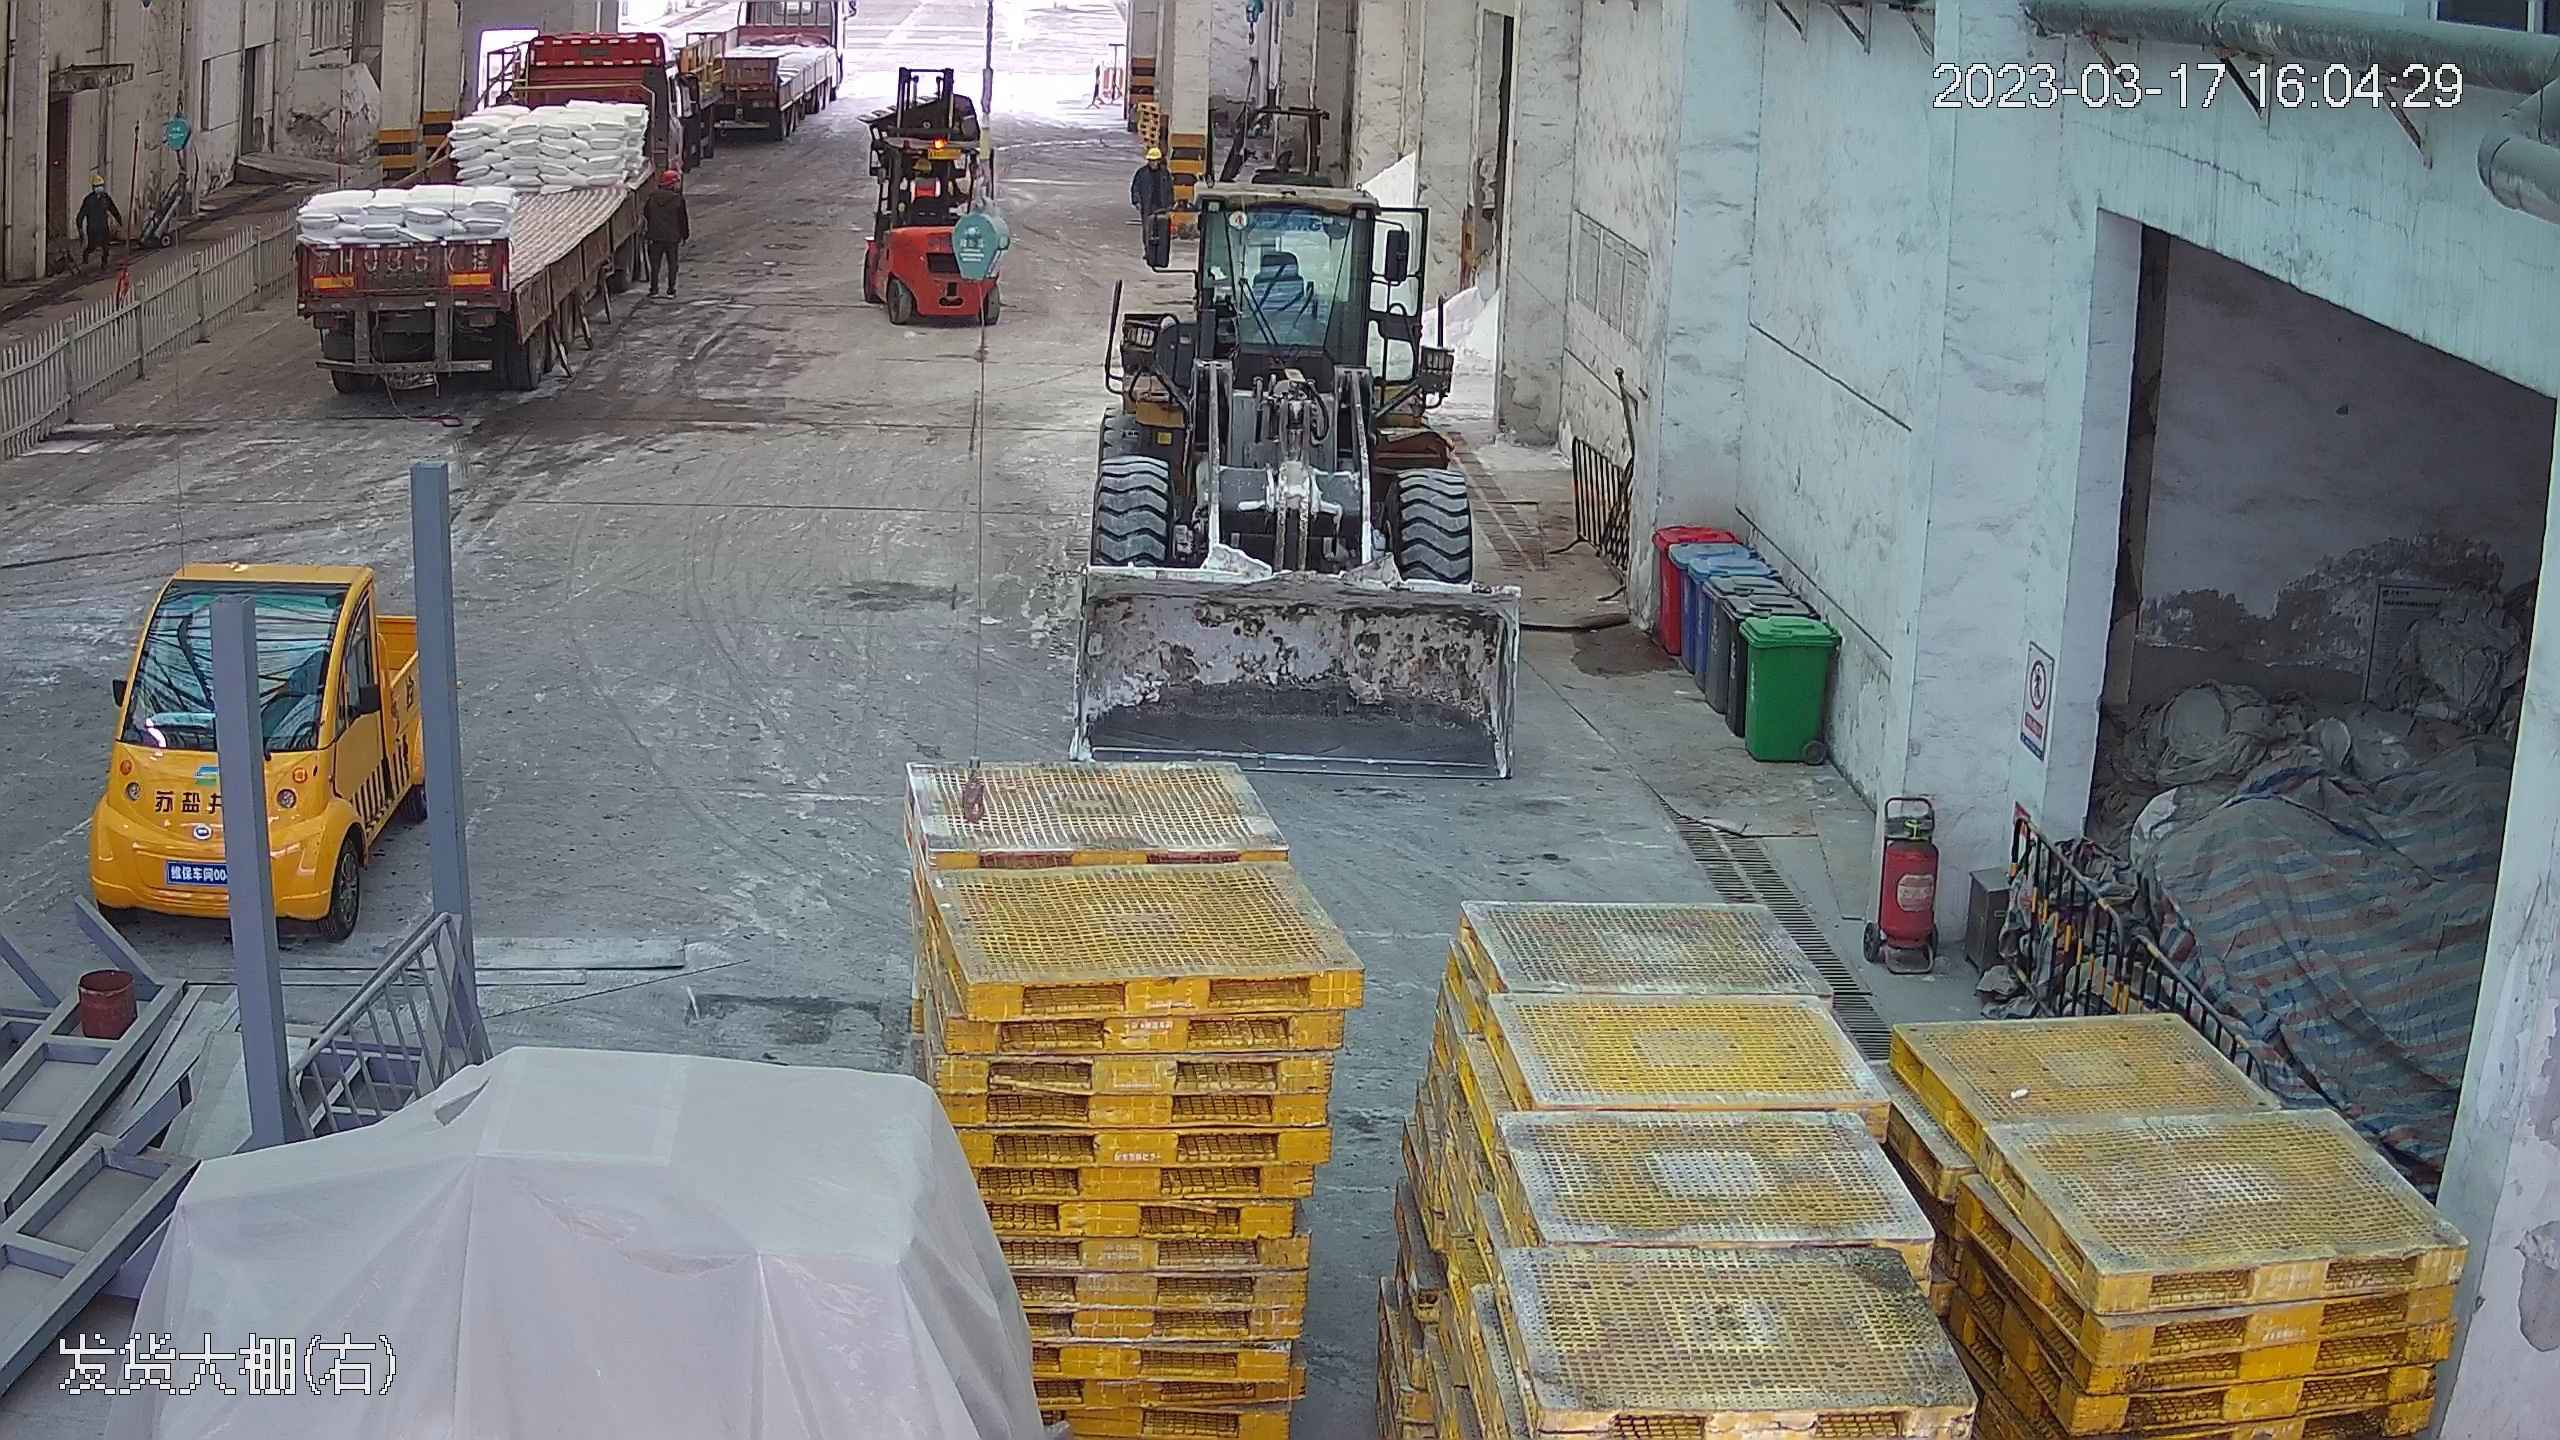head: (905, 156, 946, 200), (645, 165, 684, 211), (79, 171, 115, 216), (1136, 145, 1169, 186)
helmet: (658, 170, 680, 187), (912, 157, 933, 172), (1145, 146, 1162, 163), (90, 173, 104, 187)
people: (640, 165, 687, 301), (1131, 145, 1181, 268), (75, 171, 121, 270)
truck: (274, 12, 684, 408)
